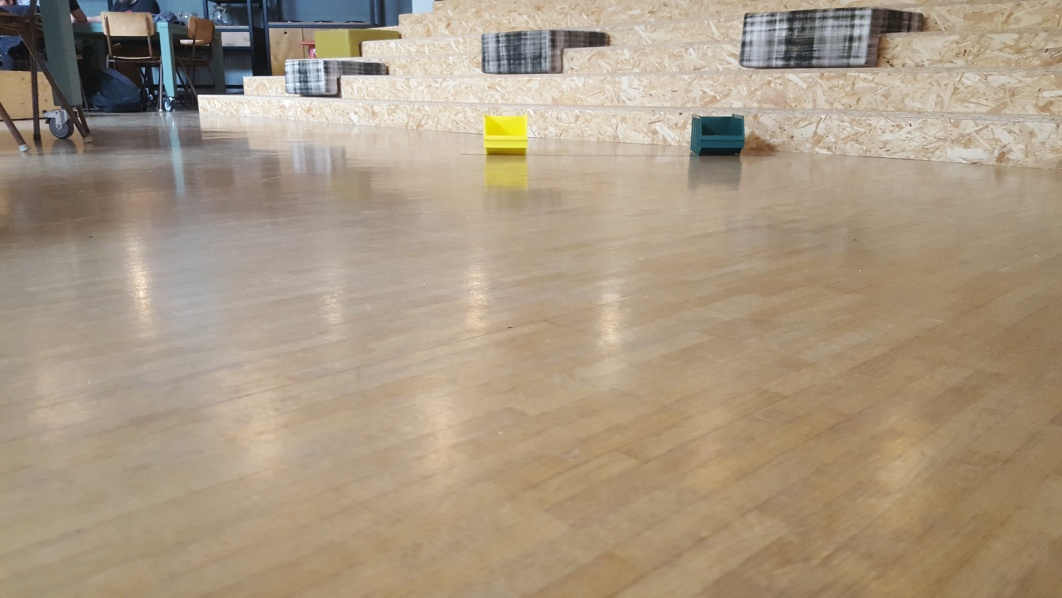tray: (687, 112, 749, 157), (482, 111, 531, 159)
